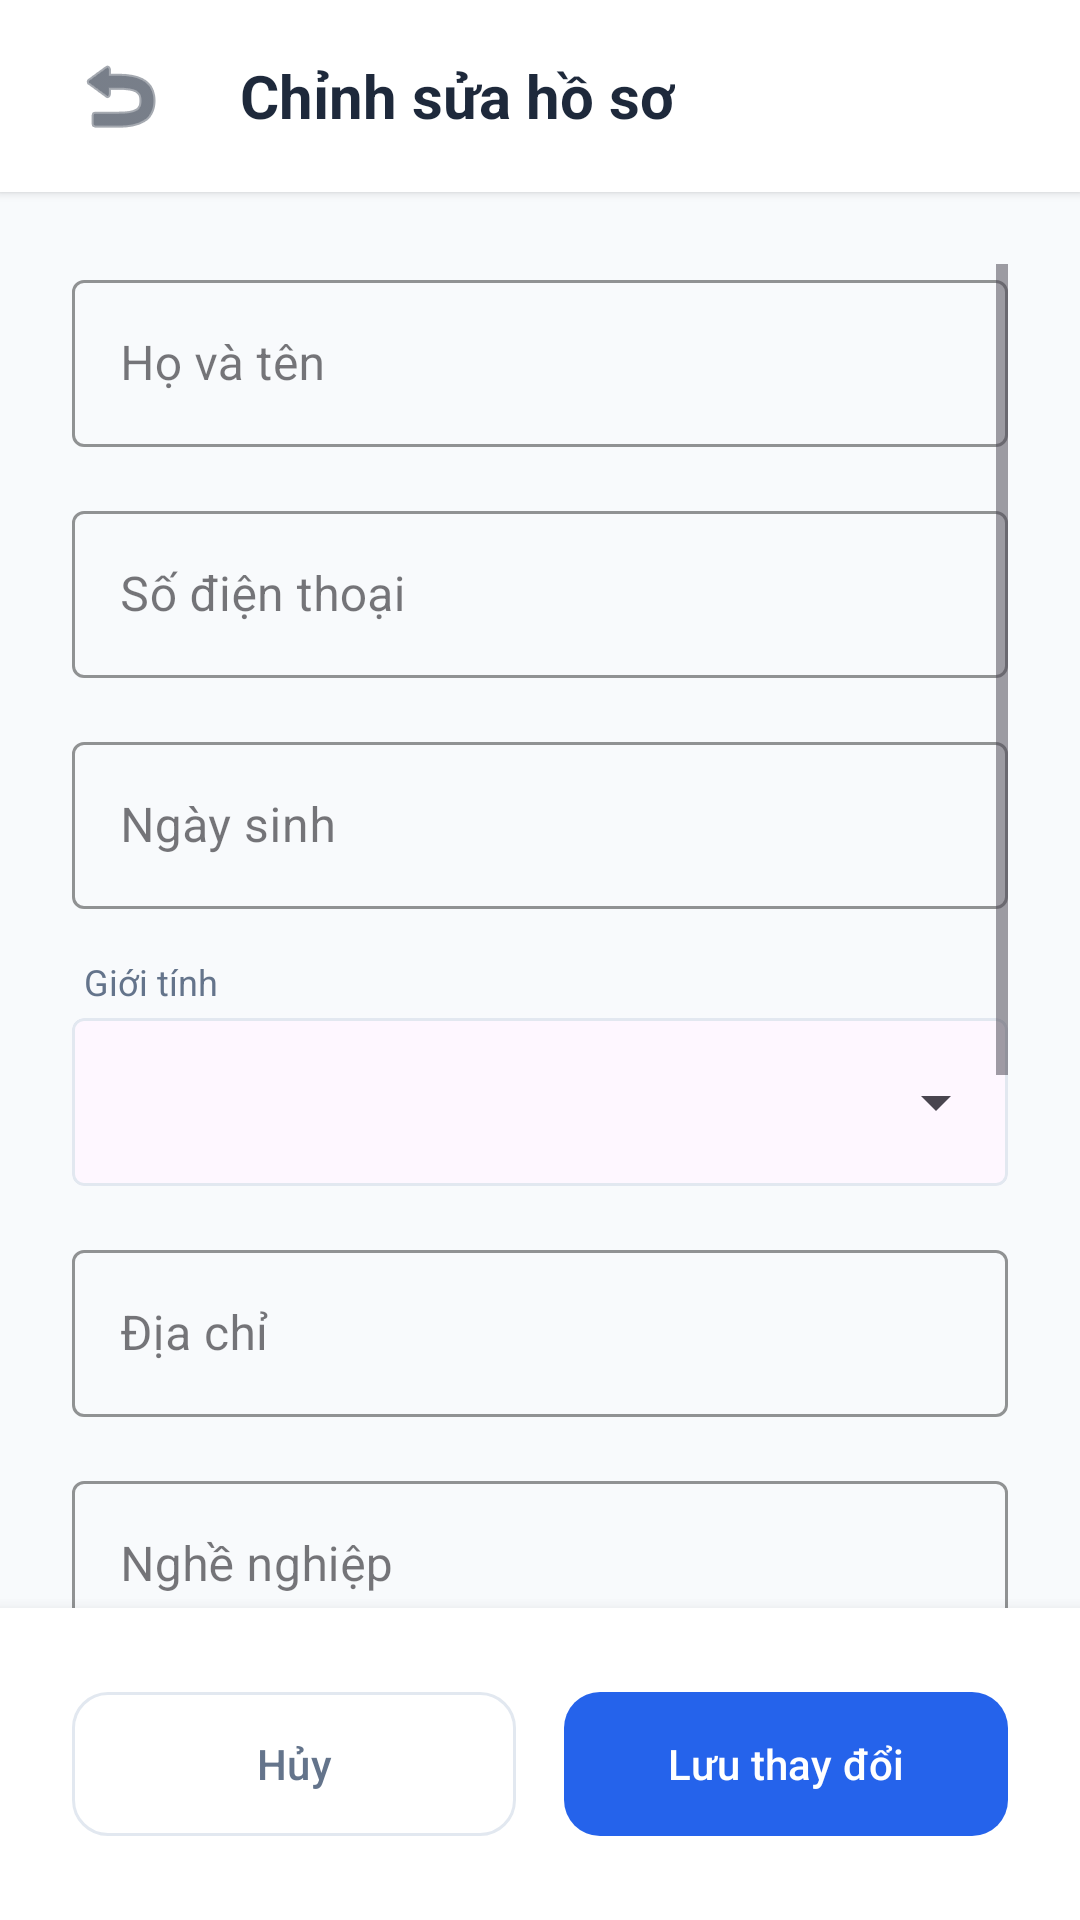

Icon click points for this 1080w x 1920h phone screenshot, format point (x, y):
revert: point (121, 96)
